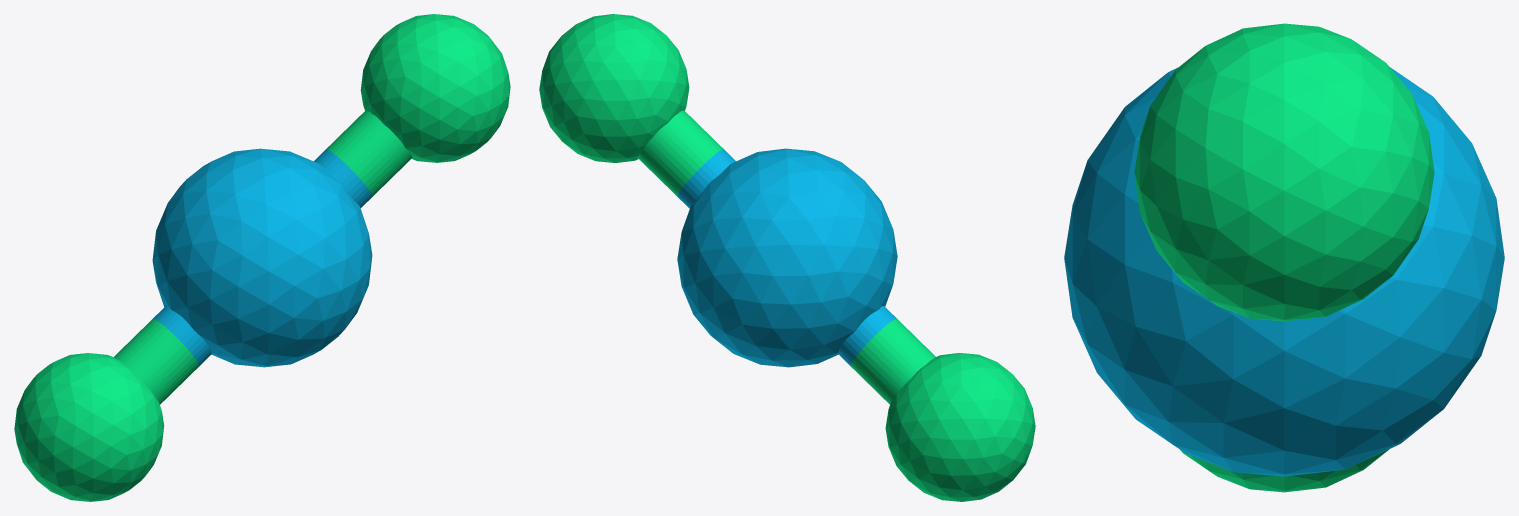
The model's file is XeF2.glb.
3 views of the same model, side by side, from view 1: azimuth 30°, elevation 25°; view 2: azimuth 150°, elevation 25°; view 3: azimuth 270°, elevation 25° (orthographic). The views are drawn at different scales.
Visible parts, largest first — view 1: Shape_IndexedFaceSet, Shape_IndexedFaceSet.002, Shape_IndexedFaceSet.001, Shape_IndexedFaceSet.005, Shape_IndexedFaceSet.008, Shape_IndexedFaceSet.003, Shape_IndexedFaceSet.007; view 2: Shape_IndexedFaceSet, Shape_IndexedFaceSet.002, Shape_IndexedFaceSet.001, Shape_IndexedFaceSet.008, Shape_IndexedFaceSet.005, Shape_IndexedFaceSet.003, Shape_IndexedFaceSet.007; view 3: Shape_IndexedFaceSet, Shape_IndexedFaceSet.001, Shape_IndexedFaceSet.002.
Part boxes in pixels (x1,y1,x2,y2): Shape_IndexedFaceSet: (152, 148, 372, 367); Shape_IndexedFaceSet.002: (14, 353, 164, 501); Shape_IndexedFaceSet.001: (360, 14, 510, 162); Shape_IndexedFaceSet.005: (114, 318, 199, 404); Shape_IndexedFaceSet.008: (326, 111, 412, 196); Shape_IndexedFaceSet.003: (153, 305, 211, 366); Shape_IndexedFaceSet.007: (314, 149, 372, 207); Shape_IndexedFaceSet: (677, 148, 897, 367); Shape_IndexedFaceSet.002: (885, 353, 1035, 501); Shape_IndexedFaceSet.001: (539, 14, 689, 162); Shape_IndexedFaceSet.008: (637, 110, 723, 196); Shape_IndexedFaceSet.005: (850, 318, 935, 404); Shape_IndexedFaceSet.003: (837, 306, 896, 366); Shape_IndexedFaceSet.007: (677, 149, 735, 208); Shape_IndexedFaceSet: (1064, 67, 1504, 476); Shape_IndexedFaceSet.001: (1134, 23, 1434, 321); Shape_IndexedFaceSet.002: (1180, 449, 1389, 492).
Size of the model in its own units: 0.3067 by 0.2402 by 0.1229.
